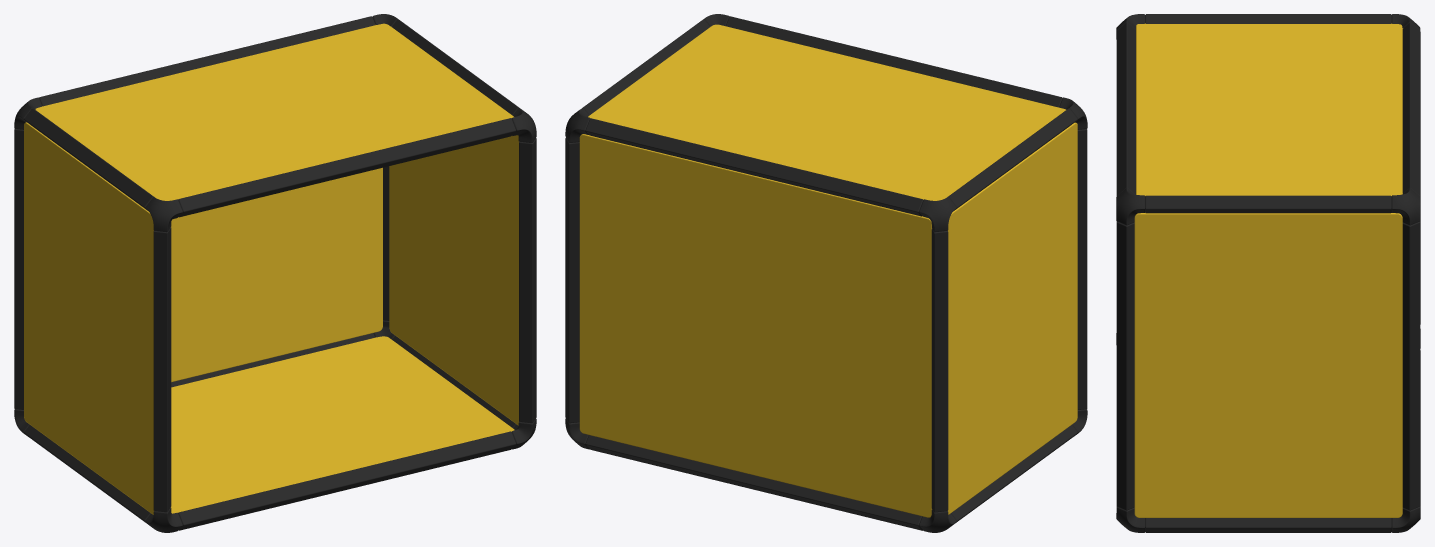
The picture shows the model from 3 angles, left to right: view 1: azimuth 30°, elevation 25°; view 2: azimuth 150°, elevation 25°; view 3: azimuth 270°, elevation 25°; orthographic projection.
Parts seen in each view (by area): view 1: 523x329x420; view 2: 523x329x420; view 3: 523x329x420.
Part boxes in pixels (x1,y1,x2,y2): 523x329x420: [14, 14, 536, 532]; 523x329x420: [565, 14, 1087, 532]; 523x329x420: [1116, 14, 1420, 532].
Size of the model in its own units: 0.6007 by 0.4976 by 0.4063.
